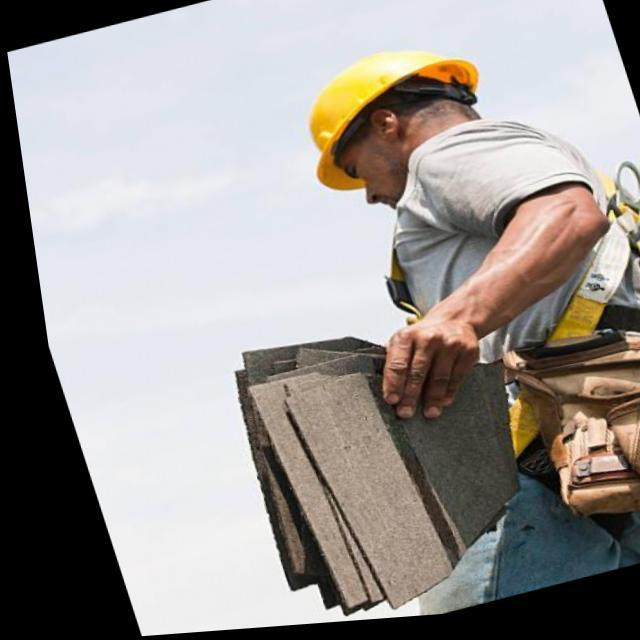belt: (337, 93, 640, 582)
